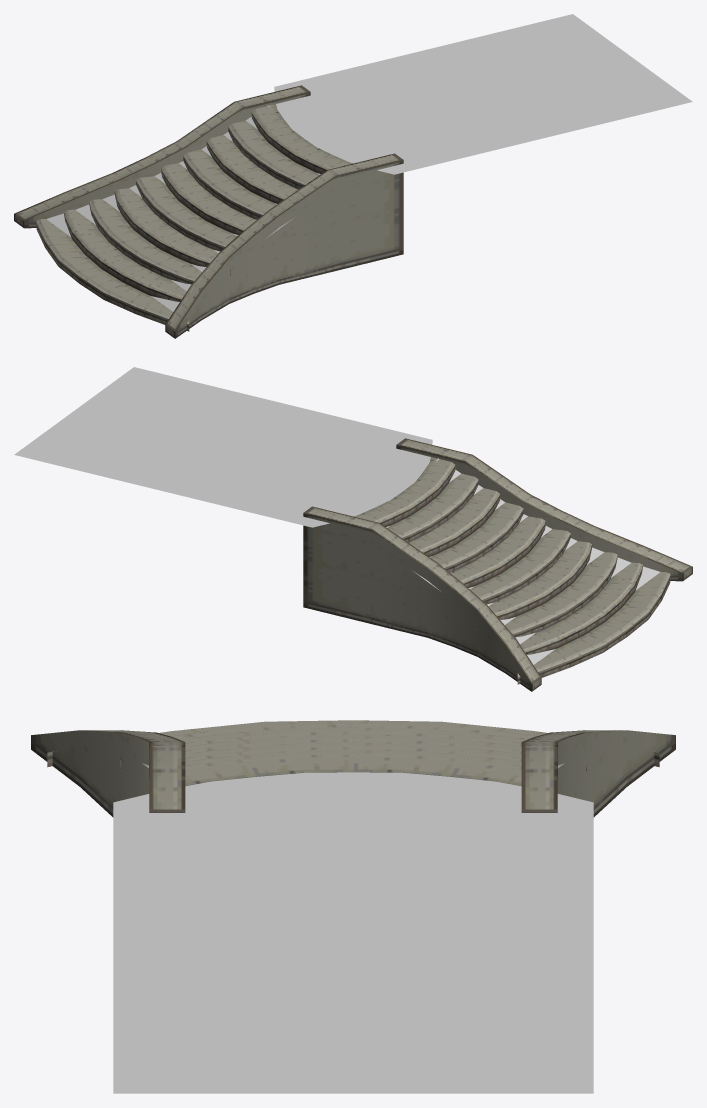
File: EnvBdgMD_Mansion_Arlond_A_Stairs_Seidokikan_A.FBX
3 views of the same model, one above another, from view 1: azimuth 30°, elevation 25°; view 2: azimuth 150°, elevation 25°; view 3: azimuth 270°, elevation 25° (orthographic). The views are drawn at different scales.
Visible parts, largest first — view 1: EnvBdgMD_Mansion_Arlond_A_Stairs_Seidokikan_A; view 2: EnvBdgMD_Mansion_Arlond_A_Stairs_Seidokikan_A; view 3: EnvBdgMD_Mansion_Arlond_A_Stairs_Seidokikan_A.
Part boxes in pixels (x1,y1,x2,y2): EnvBdgMD_Mansion_Arlond_A_Stairs_Seidokikan_A: [14, 14, 692, 338]; EnvBdgMD_Mansion_Arlond_A_Stairs_Seidokikan_A: [14, 367, 692, 691]; EnvBdgMD_Mansion_Arlond_A_Stairs_Seidokikan_A: [31, 720, 675, 1093].
Bounding box in the file's own units: 1597 × 260 × 806.
